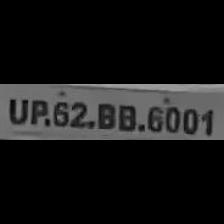0: (164, 102, 181, 134), (180, 104, 198, 134)
1: (198, 105, 216, 135)
2: (68, 98, 92, 130)
6: (142, 102, 164, 132), (48, 98, 68, 128)
B: (91, 98, 115, 130), (115, 100, 139, 132)
P: (28, 96, 48, 126)
U: (4, 96, 28, 124)
